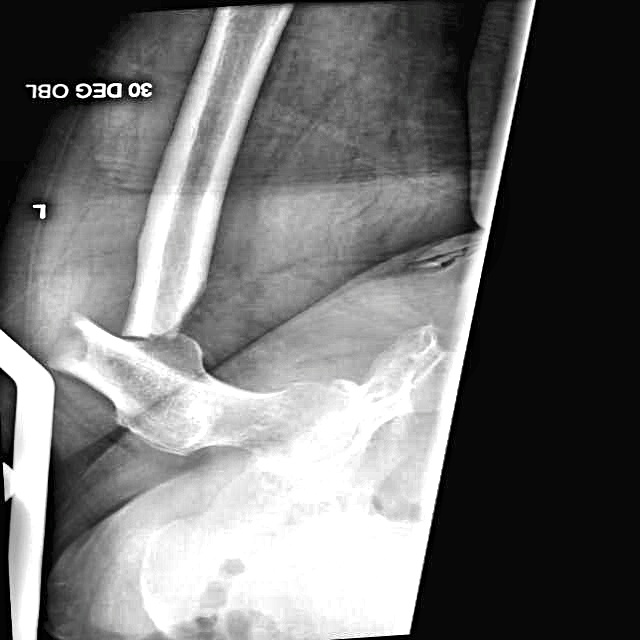Transverse: (33, 265, 221, 400)
